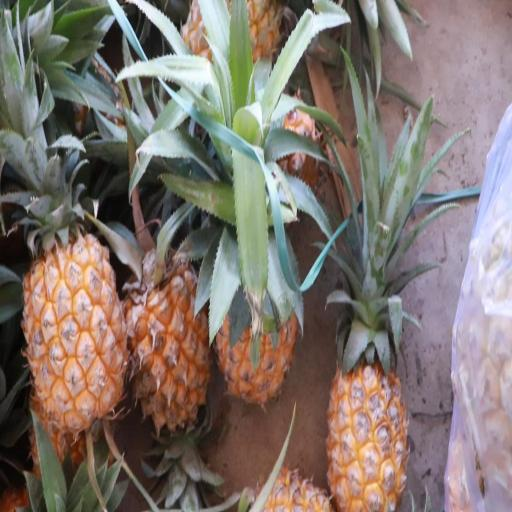Pineapple - v8 v1: (18, 205, 132, 438), (123, 237, 218, 438), (212, 210, 300, 413), (323, 336, 410, 508)
